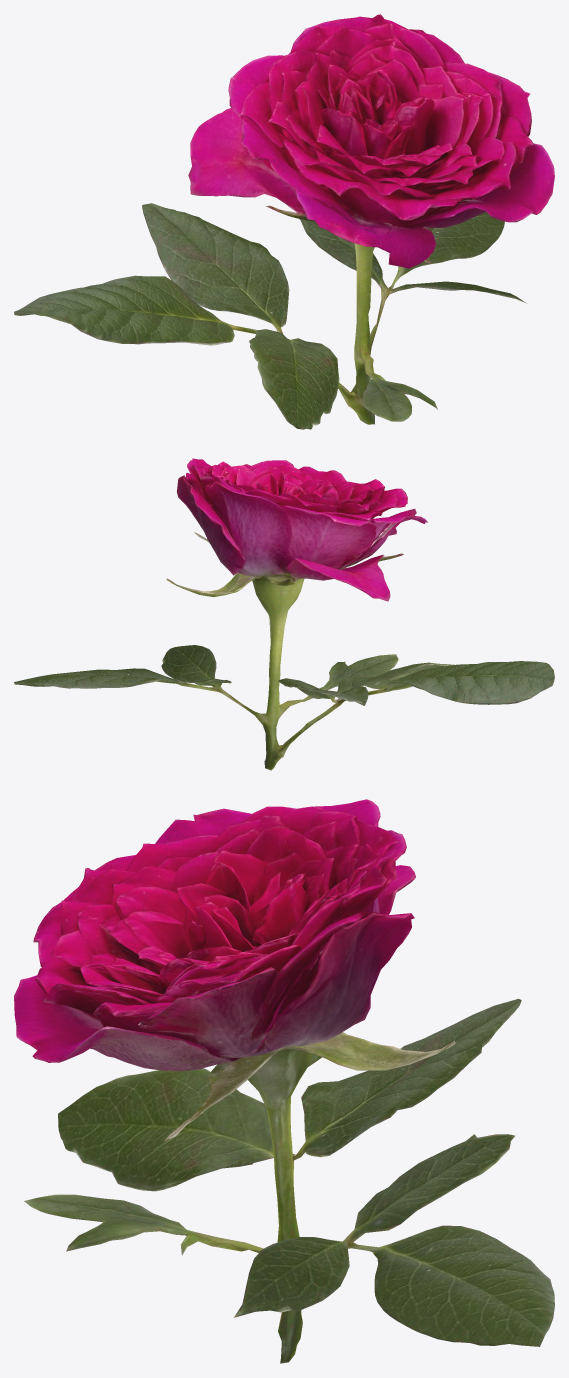
Rendered from rose-v1.glb.
3 renders of one model, top to bottom at view 1: azimuth 30°, elevation 25°; view 2: azimuth 150°, elevation 25°; view 3: azimuth 270°, elevation 25°, orthographic. The views are drawn at different scales.
Parts seen in each view (by area): view 1: rose; view 2: rose; view 3: rose.
Part boxes in pixels (x1,y1,x2,y2): rose: (14, 14, 554, 429); rose: (14, 458, 554, 770); rose: (14, 799, 554, 1363).
Size of the model in its own units: 2.38 by 1.49 by 1.41.
1 material, 1 textured.
